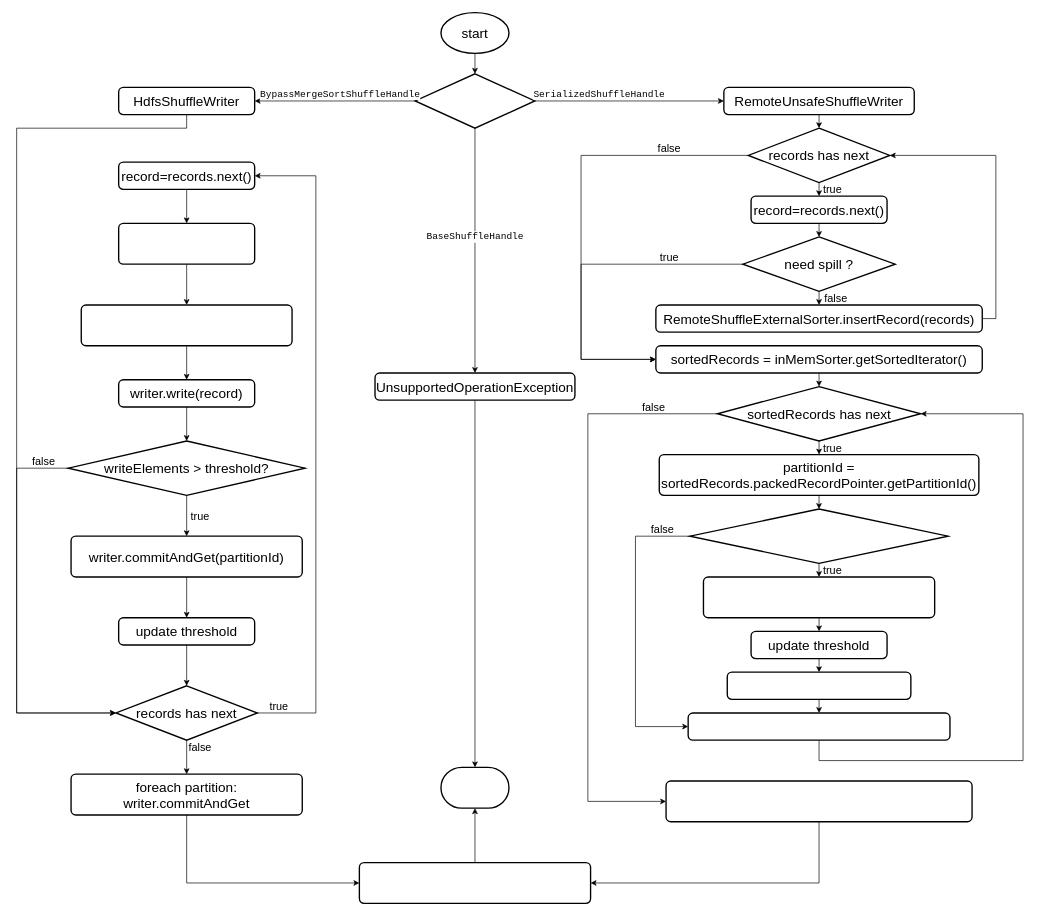
The diagram is 1040 pixels wide and 915 high, and some of its shapes have lost their labels. Each missing label, with the box of its shape:
currentPartition = partitionId: (726, 671, 911, 700)
currentPartition == partitionId?: (689, 508, 948, 564)
end: (440, 766, 509, 809)
get writer: (414, 73, 535, 129)
HdfsBlockObjectWriter.commitAndGet: (702, 576, 935, 618)
HdfsBlockObjectWriter.commitAndGet(partitionId): (665, 780, 972, 822)
HdfsBlockObjectWriter.write(writeBuffer): (687, 712, 950, 741)
partitionId = hash(record.getKey): (118, 222, 255, 265)
return RssMapStatus: (358, 862, 591, 904)
writer: HdfsBlockObjectWriter = partitionWriter.get(partitionId): (80, 304, 292, 346)
